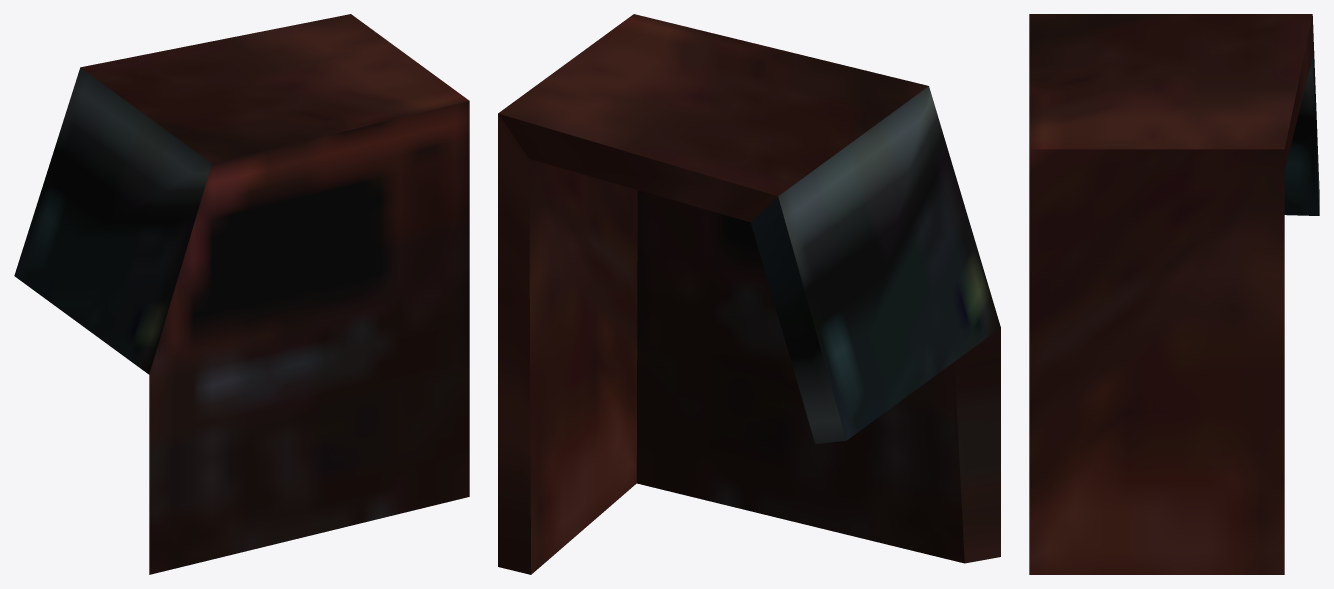
Rendered from Shared - Armor - Tanker Truck - Damage State 01 - CVTanker_d01.glb.
3 renders of one model, left to right at view 1: azimuth 30°, elevation 25°; view 2: azimuth 150°, elevation 25°; view 3: azimuth 270°, elevation 25°, orthographic. The views are drawn at different scales.
Parts seen in each view (by area): view 1: CVTANKER_D01; view 2: CVTANKER_D01; view 3: CVTANKER_D01.
Part boxes in pixels (x1,y1,x2,y2): CVTANKER_D01: [14, 14, 469, 574]; CVTANKER_D01: [498, 14, 1000, 574]; CVTANKER_D01: [1029, 14, 1319, 574].
Size of the model in its own units: 5.52 by 6.52 by 4.02.
1 material, 1 textured.
